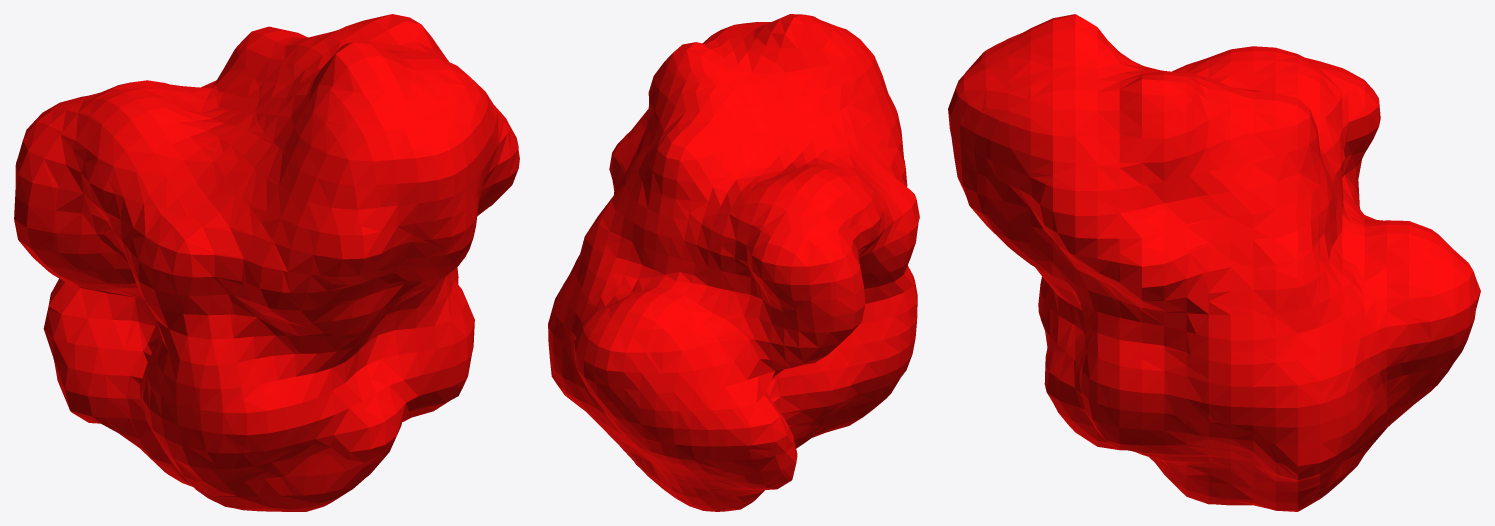
File: argC_coarse.dae
The picture shows the model from 3 angles, left to right: view 1: azimuth 30°, elevation 25°; view 2: azimuth 150°, elevation 25°; view 3: azimuth 270°, elevation 25°; orthographic projection. The views are drawn at different scales.
Parts seen in each view (by area): view 1: argC; view 2: argC; view 3: argC.
Part boxes in pixels (x1,y1,x2,y2): argC: (14, 14, 519, 511); argC: (548, 14, 919, 511); argC: (948, 14, 1480, 511).
Bounding box in the file's own units: 48.29 × 60.94 × 60.21.
